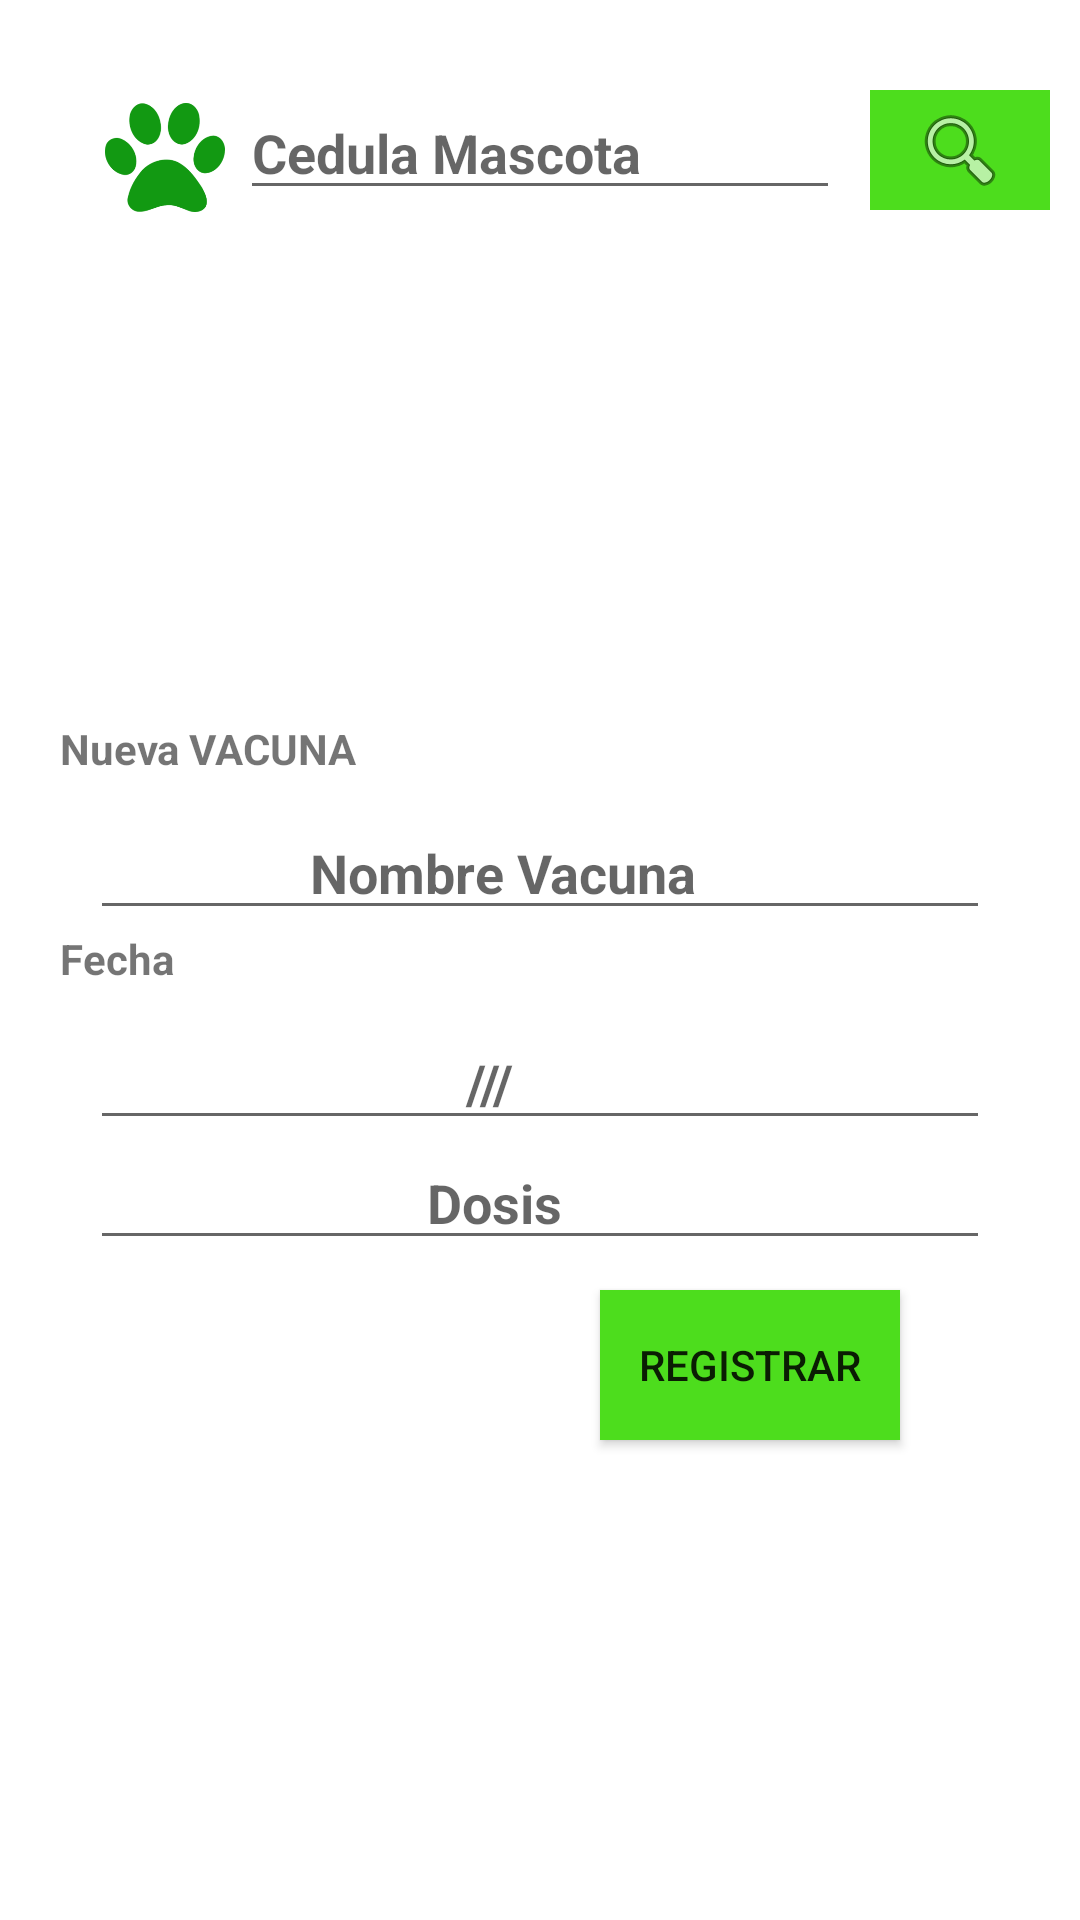

Locate icon controls on the screen. Image size 1080×1920, boxes as [x1,y1,x2,y2].
huella: [105,103,225,212]
search: [870,90,1050,210]
